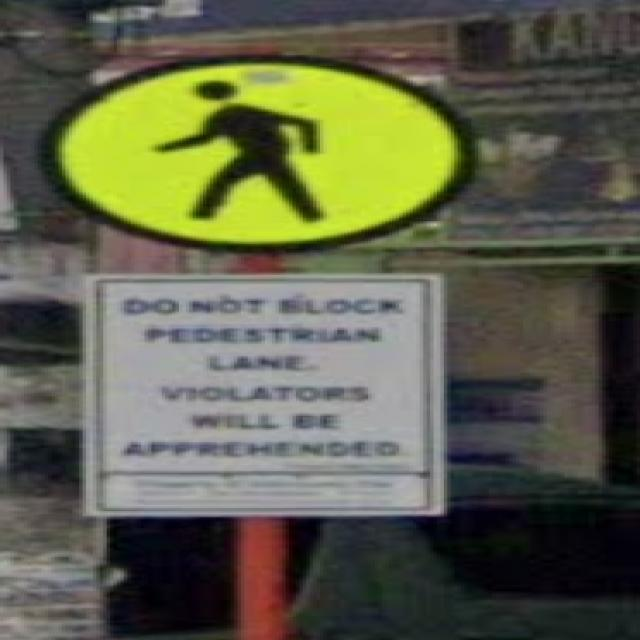pedestrian crossing: (35, 54, 472, 253)
